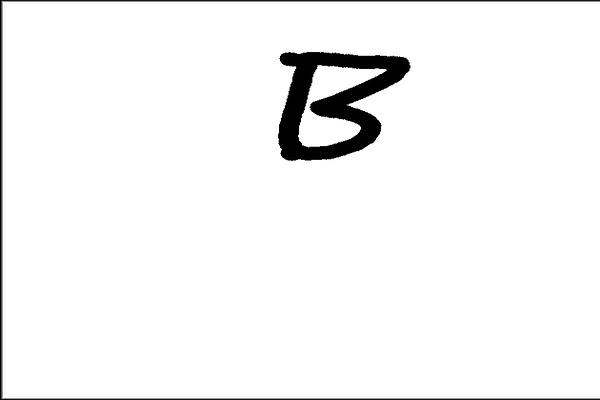B: (259, 34, 421, 174)
